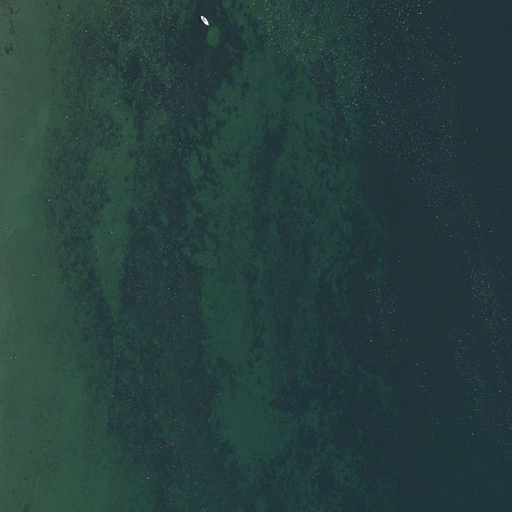ship: (201, 16, 208, 25)
